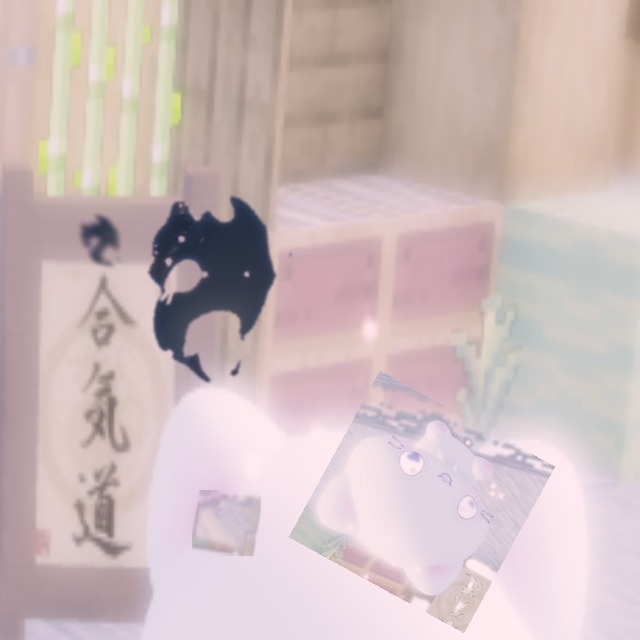urso_branco: (288, 370, 556, 634), (192, 490, 261, 556)
urso_preto: (97, 146, 324, 423), (73, 205, 131, 279)
